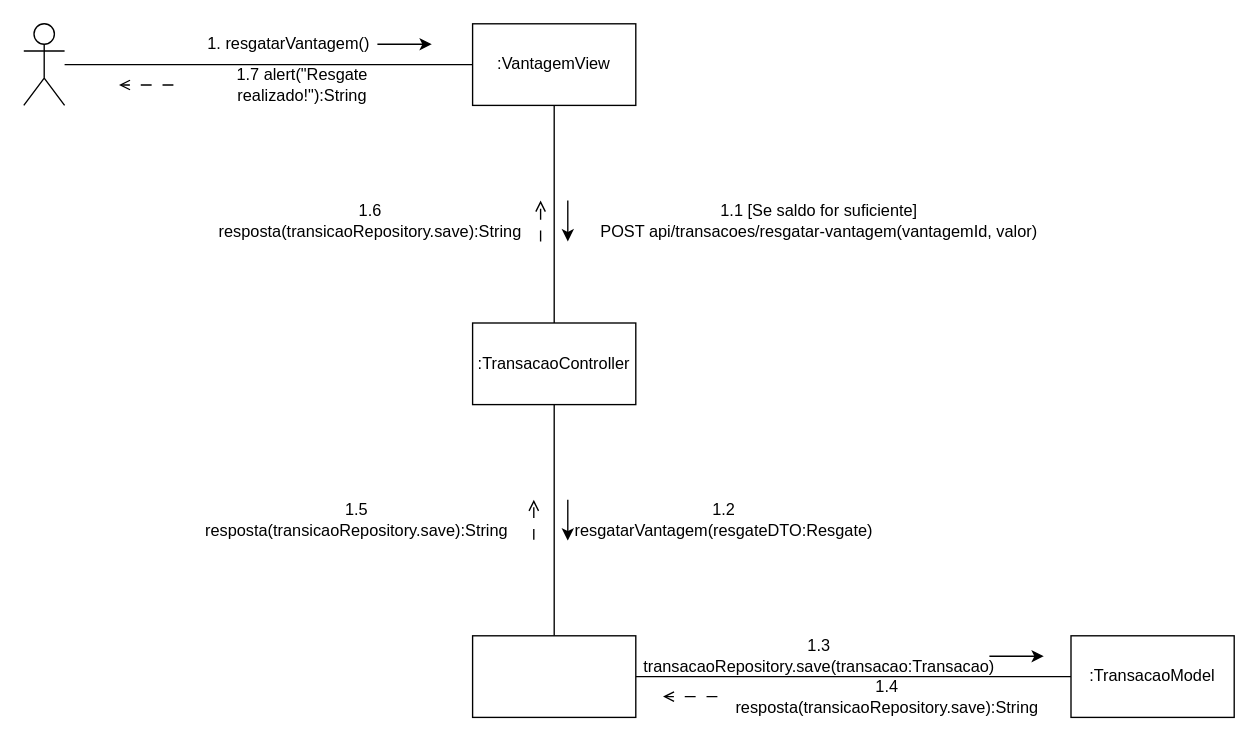
Image size: 1258x741. Some labels were removed from this diagram. Each missing label, with the box of its shape:
:TransacaoRepository: (471, 634, 636, 717)
Aluno: (22, 22, 65, 105)
